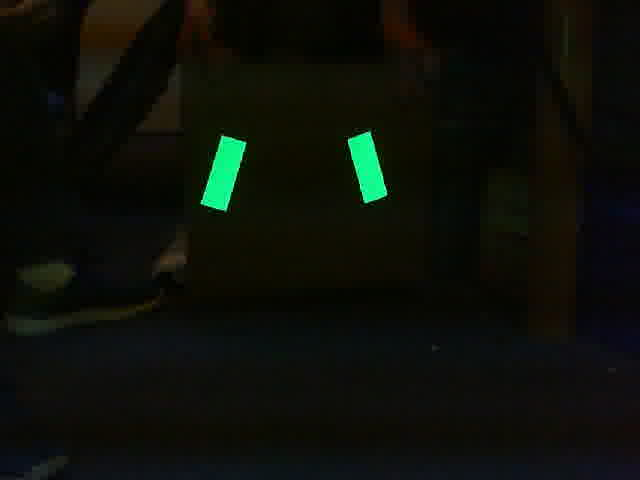target: (199, 131, 391, 213)
